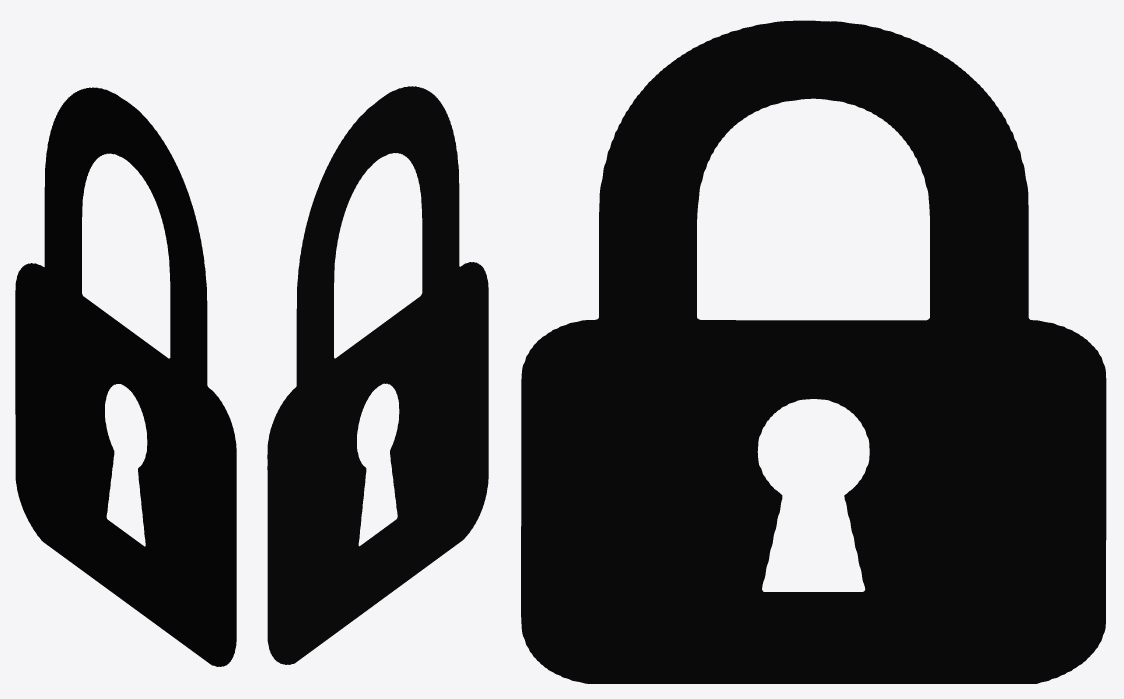
Rendered from lockPlane.fbx.
3 renders of one model, left to right at view 1: azimuth 30°, elevation 25°; view 2: azimuth 150°, elevation 25°; view 3: azimuth 270°, elevation 25°, orthographic. The views are drawn at different scales.
Parts seen in each view (by area): view 1: lockPlane; view 2: lockPlane; view 3: lockPlane.
Part boxes in pixels (left/top/right/bottom): lockPlane: left=15, top=87, right=236, bottom=666; lockPlane: left=267, top=86, right=488, bottom=664; lockPlane: left=521, top=20, right=1106, bottom=683.
Size of the model in its own units: 1.12e-15 by 18.24 by 14.58.
1 material, 1 textured.
